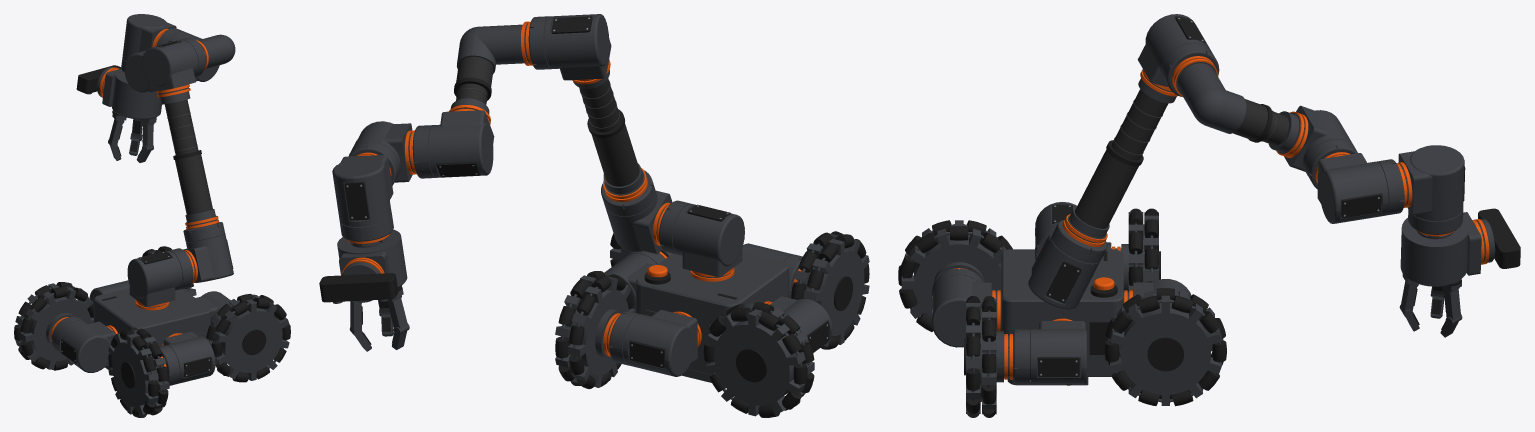
The model's file is morph_mobile_manipulator.glb.
The picture shows the model from 3 angles, left to right: view 1: azimuth 30°, elevation 25°; view 2: azimuth 150°, elevation 25°; view 3: azimuth 270°, elevation 25°; orthographic projection. The views are drawn at different scales.
Visible parts, largest first — view 1: hub_housing, wheel_1_hub, wheel_3_hub, wheel_4_hub, joint_3_housing, joint_1_housing, joint_w3_housing, hand_palm, wheel_1_rollers, wheel_4_rollers, wheel_3_rollers, joint_2_housing (+20 smaller); view 2: hub_housing, wheel_3_hub, wheel_2_hub, joint_1_housing, wheel_4_hub, joint_4_housing, joint_w2_housing, joint_3_housing, wheel_3_rollers, joint_6_housing, wheel_2_rollers, link_2_elbow_casting (+26 smaller); view 3: wheel_2_hub, hub_housing, wheel_4_hub, hand_palm, joint_6_housing, wheel_2_rollers, joint_5_housing, link_2_elbow_casting, joint_w1_housing, link_1_sleeve, joint_w4_housing, wheel_1_rollers (+24 smaller).
Boxes of the visible parts, box(x1,y1,x2,y2) form: hub_housing: box(94, 288, 210, 367); wheel_1_hub: box(207, 294, 289, 380); wheel_3_hub: box(15, 283, 93, 369); wheel_4_hub: box(108, 329, 169, 415); joint_3_housing: box(141, 40, 198, 92); joint_1_housing: box(127, 251, 182, 306); joint_w3_housing: box(57, 321, 115, 372); hand_palm: box(102, 69, 161, 119); wheel_1_rollers: box(206, 293, 290, 382); wheel_4_rollers: box(108, 327, 168, 417); wheel_3_rollers: box(14, 282, 93, 370); joint_2_housing: box(183, 234, 233, 282); hub_housing: box(636, 252, 788, 375); wheel_3_hub: box(705, 303, 814, 416); wheel_2_hub: box(555, 275, 635, 387); joint_1_housing: box(672, 204, 744, 277); wheel_4_hub: box(793, 233, 869, 346); joint_4_housing: box(428, 110, 494, 177); joint_w2_housing: box(623, 310, 697, 376); joint_3_housing: box(544, 14, 611, 80); wheel_3_rollers: box(703, 302, 814, 417); joint_6_housing: box(332, 155, 393, 226); wheel_2_rollers: box(555, 271, 633, 389); link_2_elbow_casting: box(457, 24, 524, 73); wheel_2_hub: box(1108, 290, 1223, 405); hub_housing: box(1001, 249, 1123, 376); wheel_4_hub: box(901, 220, 1006, 318); hand_palm: box(1400, 212, 1481, 286); joint_6_housing: box(1398, 145, 1464, 221); wheel_2_rollers: box(1104, 288, 1226, 406); joint_5_housing: box(1317, 153, 1388, 223); link_2_elbow_casting: box(1177, 63, 1246, 133); joint_w1_housing: box(1030, 321, 1086, 384); link_1_sleeve: box(1075, 149, 1138, 228); joint_w4_housing: box(931, 275, 991, 347); wheel_1_rollers: box(966, 295, 996, 417).
Bounding box in the file's own units: 0.7038 × 0.6955 × 1.02.
